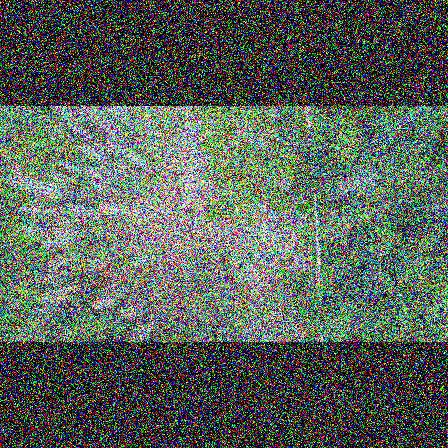Dead: (105, 136, 160, 178), (2, 175, 73, 202), (78, 107, 128, 138), (56, 107, 106, 138), (35, 279, 88, 307), (332, 169, 378, 198), (17, 203, 78, 223), (43, 250, 84, 270), (100, 163, 137, 184), (88, 290, 123, 312), (94, 200, 139, 216), (17, 224, 64, 239), (69, 203, 103, 222), (83, 179, 119, 195), (84, 164, 119, 180), (121, 298, 144, 322), (95, 277, 123, 296), (60, 160, 92, 176), (133, 315, 150, 341)
